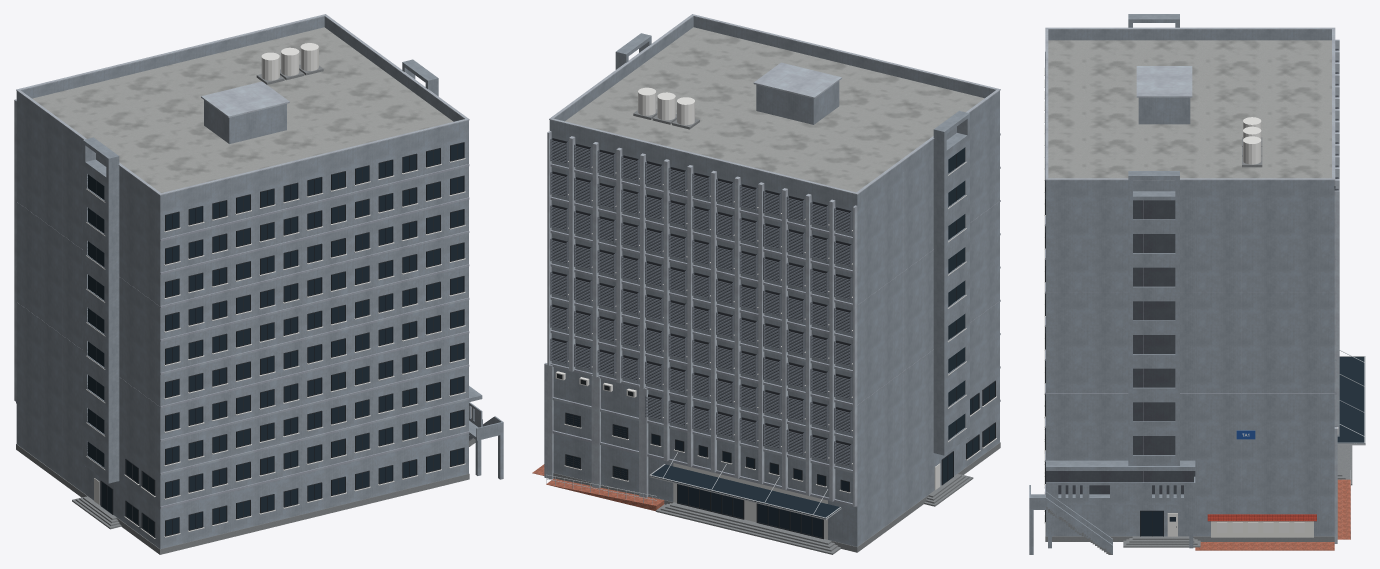
The picture shows the model from 3 angles, left to right: view 1: azimuth 30°, elevation 25°; view 2: azimuth 150°, elevation 25°; view 3: azimuth 270°, elevation 25°; orthographic projection.
Visible parts, largest first — view 1: TA1; view 2: TA1; view 3: TA1.
Part boxes in pixels (x1=…): TA1: x1=14, y1=14, x2=503, y2=554; TA1: x1=532, y1=14, x2=1000, y2=554; TA1: x1=1029, y1=14, x2=1365, y2=554.
Bounding box in the file's own units: 39.1 × 40.65 × 32.6.
Materials: 17 (9 with a texture image).
